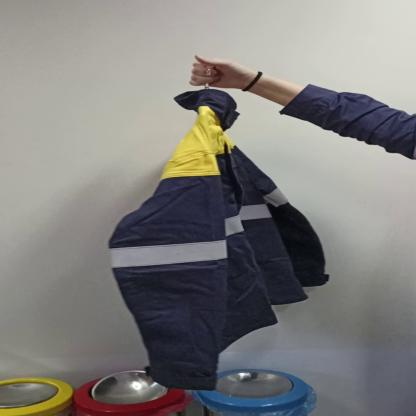C_eletrica: (108, 97, 335, 375)
